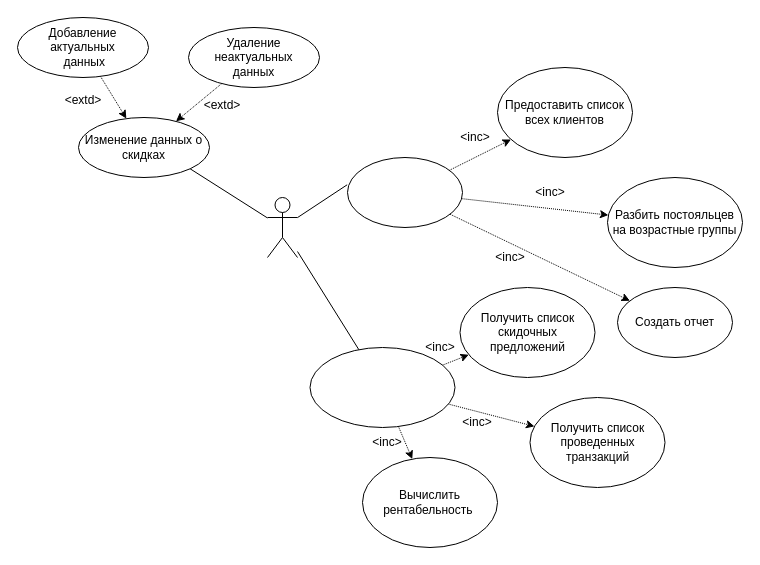
Image size: 760x565. Some labels were removed from this diagram. The box of each missing label's shape, as (x1, y1, x2, y2) in pixels:
Анализ эффективности скидочной политики: (309, 346, 455, 428)
Анализировать ЦА: (346, 156, 462, 228)
Маркетолог: (266, 196, 298, 258)
